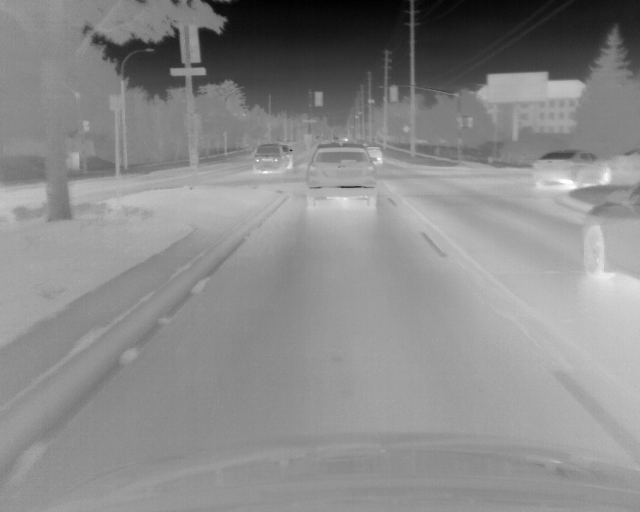car: (581, 179, 640, 284), (305, 143, 378, 210), (530, 149, 613, 189), (251, 143, 287, 173), (367, 142, 384, 164), (285, 148, 294, 168)
